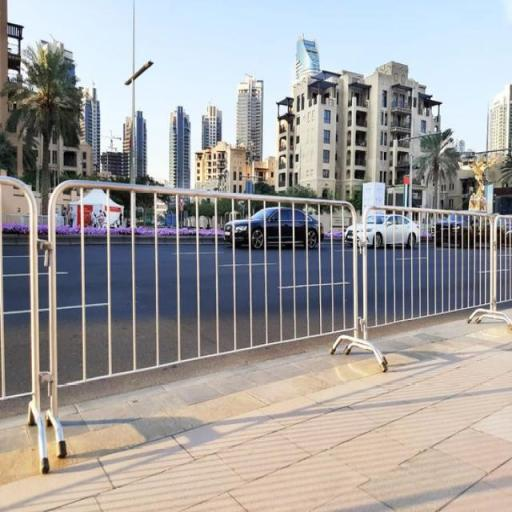book: (224, 207, 324, 250), (345, 214, 420, 248), (432, 210, 490, 248)
bus_stop: (0, 168, 512, 473)
